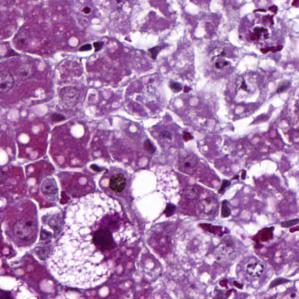ballooning: (46, 190, 130, 290), (129, 161, 183, 227)
